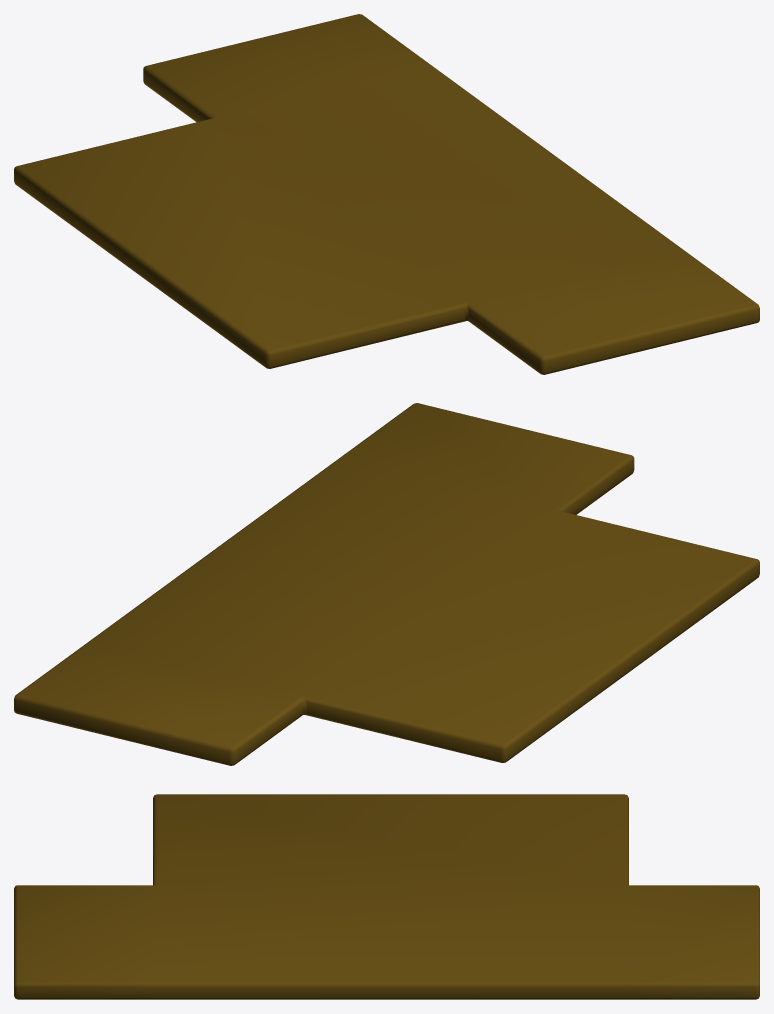
Rendered from FM_H_Doll_BH_Base_Floor_001.fbx.
3 renders of one model, top to bottom at view 1: azimuth 30°, elevation 25°; view 2: azimuth 150°, elevation 25°; view 3: azimuth 270°, elevation 25°, orthographic. The views are drawn at different scales.
Parts seen in each view (by area): view 1: H_Doll_BH_Base_Floor_001; view 2: H_Doll_BH_Base_Floor_001; view 3: H_Doll_BH_Base_Floor_001.
Part boxes in pixels (box(x1,y1,x2,y2)): H_Doll_BH_Base_Floor_001: box(14, 14, 759, 374); H_Doll_BH_Base_Floor_001: box(14, 403, 759, 765); H_Doll_BH_Base_Floor_001: box(14, 794, 759, 999).
Bounding box in the file's own units: 4.58 × 0.1961 × 7.58.
